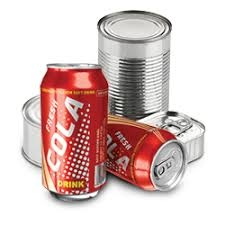metal: (39, 52, 113, 207), (88, 6, 179, 131), (94, 110, 189, 198), (15, 90, 59, 169), (156, 101, 208, 165)
